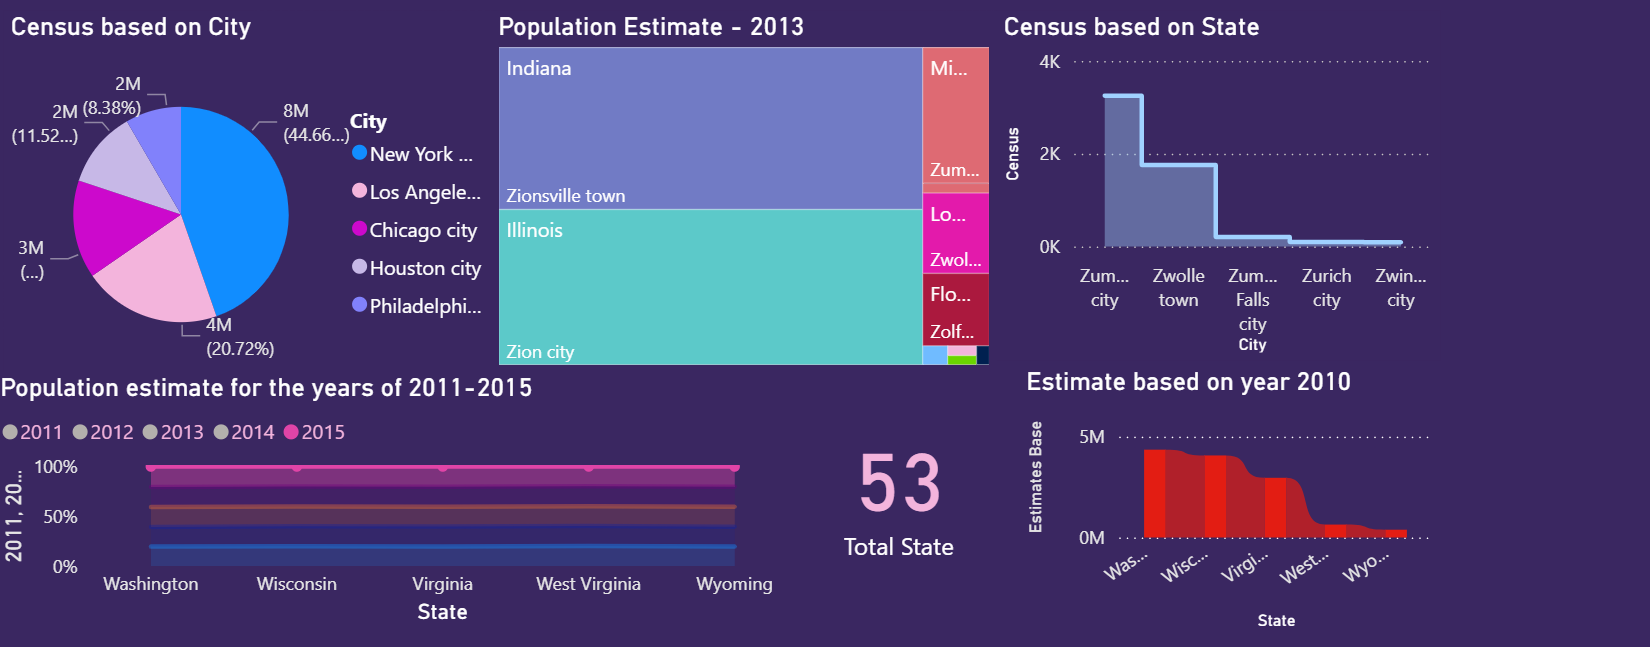

What the dashboard file says about the page in this screenshot:
{"tool":"powerbi","page":{"name":"Page 1","canvas":[1280,720],"ordinal":0},"visuals":[{"type":"pieChart","title":"        Census based on City","fields":{"Category":["PEP_2016_PEPANNRES_with_ann (2).City"],"Y":["Sum(PEP_2016_PEPANNRES_with_ann (2).Census)"]},"box":[7,7,334,252],"z":1000},{"type":"stackedAreaChart","title":"Census based on State","fields":{"Category":["PEP_2016_PEPANNRES_with_ann (2).City"],"Y":["Sum(PEP_2016_PEPANNRES_with_ann (2).Census)"]},"box":[669,7,296,233],"z":2000},{"type":"ribbonChart","title":"Estimate based on year 2010","fields":{"Y":["Sum(PEP_2016_PEPANNRES_with_ann (2).Estimates Base)"],"Category":["PEP_2016_PEPANNRES_with_ann (2).State"]},"box":[684,244,281,180],"z":3000},{"type":"treemap","title":"Population Estimate  - 2013 ","fields":{"Group":["PEP_2016_PEPANNRES_with_ann (2).State"],"Details":["PEP_2016_PEPANNRES_with_ann (2).City"],"Values":["Sum(PEP_2016_PEPANNRES_with_ann (2).Population Estimate  - 2013)"]},"box":[332,7,337,241],"z":5001},{"type":"hundredPercentStackedAreaChart","title":"Population estimate for the years of 2011-2015","fields":{"Category":["PEP_2016_PEPANNRES_with_ann (2).State"],"Y":["Sum(PEP_2016_PEPANNRES_with_ann (2).Population Estimate  - 2011)","Sum(PEP_2016_PEPANNRES_with_ann (2).Population Estimate - 2012)","Sum(PEP_2016_PEPANNRES_with_ann (2).Population Estimate  - 2013)","Sum(PEP_2016_PEPANNRES_with_ann (2).Population Estimate  - 2014)","Sum(PEP_2016_PEPANNRES_with_ann (2).Population Estimate - 2015)"]},"box":[0,248,538,172],"z":5002},{"type":"card","fields":{"Values":["Count(PEP_2016_PEPANNRES_with_ann (2).State)"]},"box":[538,248,131,154],"z":5003}]}

Visuals, with their boxes on the page's 1280x720 design canvas (x1, y1, x2, y2). These are canvas units, not pixel positions in the 1650x647 screenshot, which may show the page scaled, cropped or inside an application window:
"        Census based on City" pieChart: [x1=7, y1=7, x2=341, y2=259]
"Census based on State" stackedAreaChart: [x1=669, y1=7, x2=965, y2=240]
"Estimate based on year 2010" ribbonChart: [x1=684, y1=244, x2=965, y2=424]
"Population Estimate  - 2013 " treemap: [x1=332, y1=7, x2=669, y2=248]
"Population estimate for the years of 2011-2015" hundredPercentStackedAreaChart: [x1=0, y1=248, x2=538, y2=420]
card - Count(PEP_2016_PEPANNRES_with_ann (2).State): [x1=538, y1=248, x2=669, y2=402]
